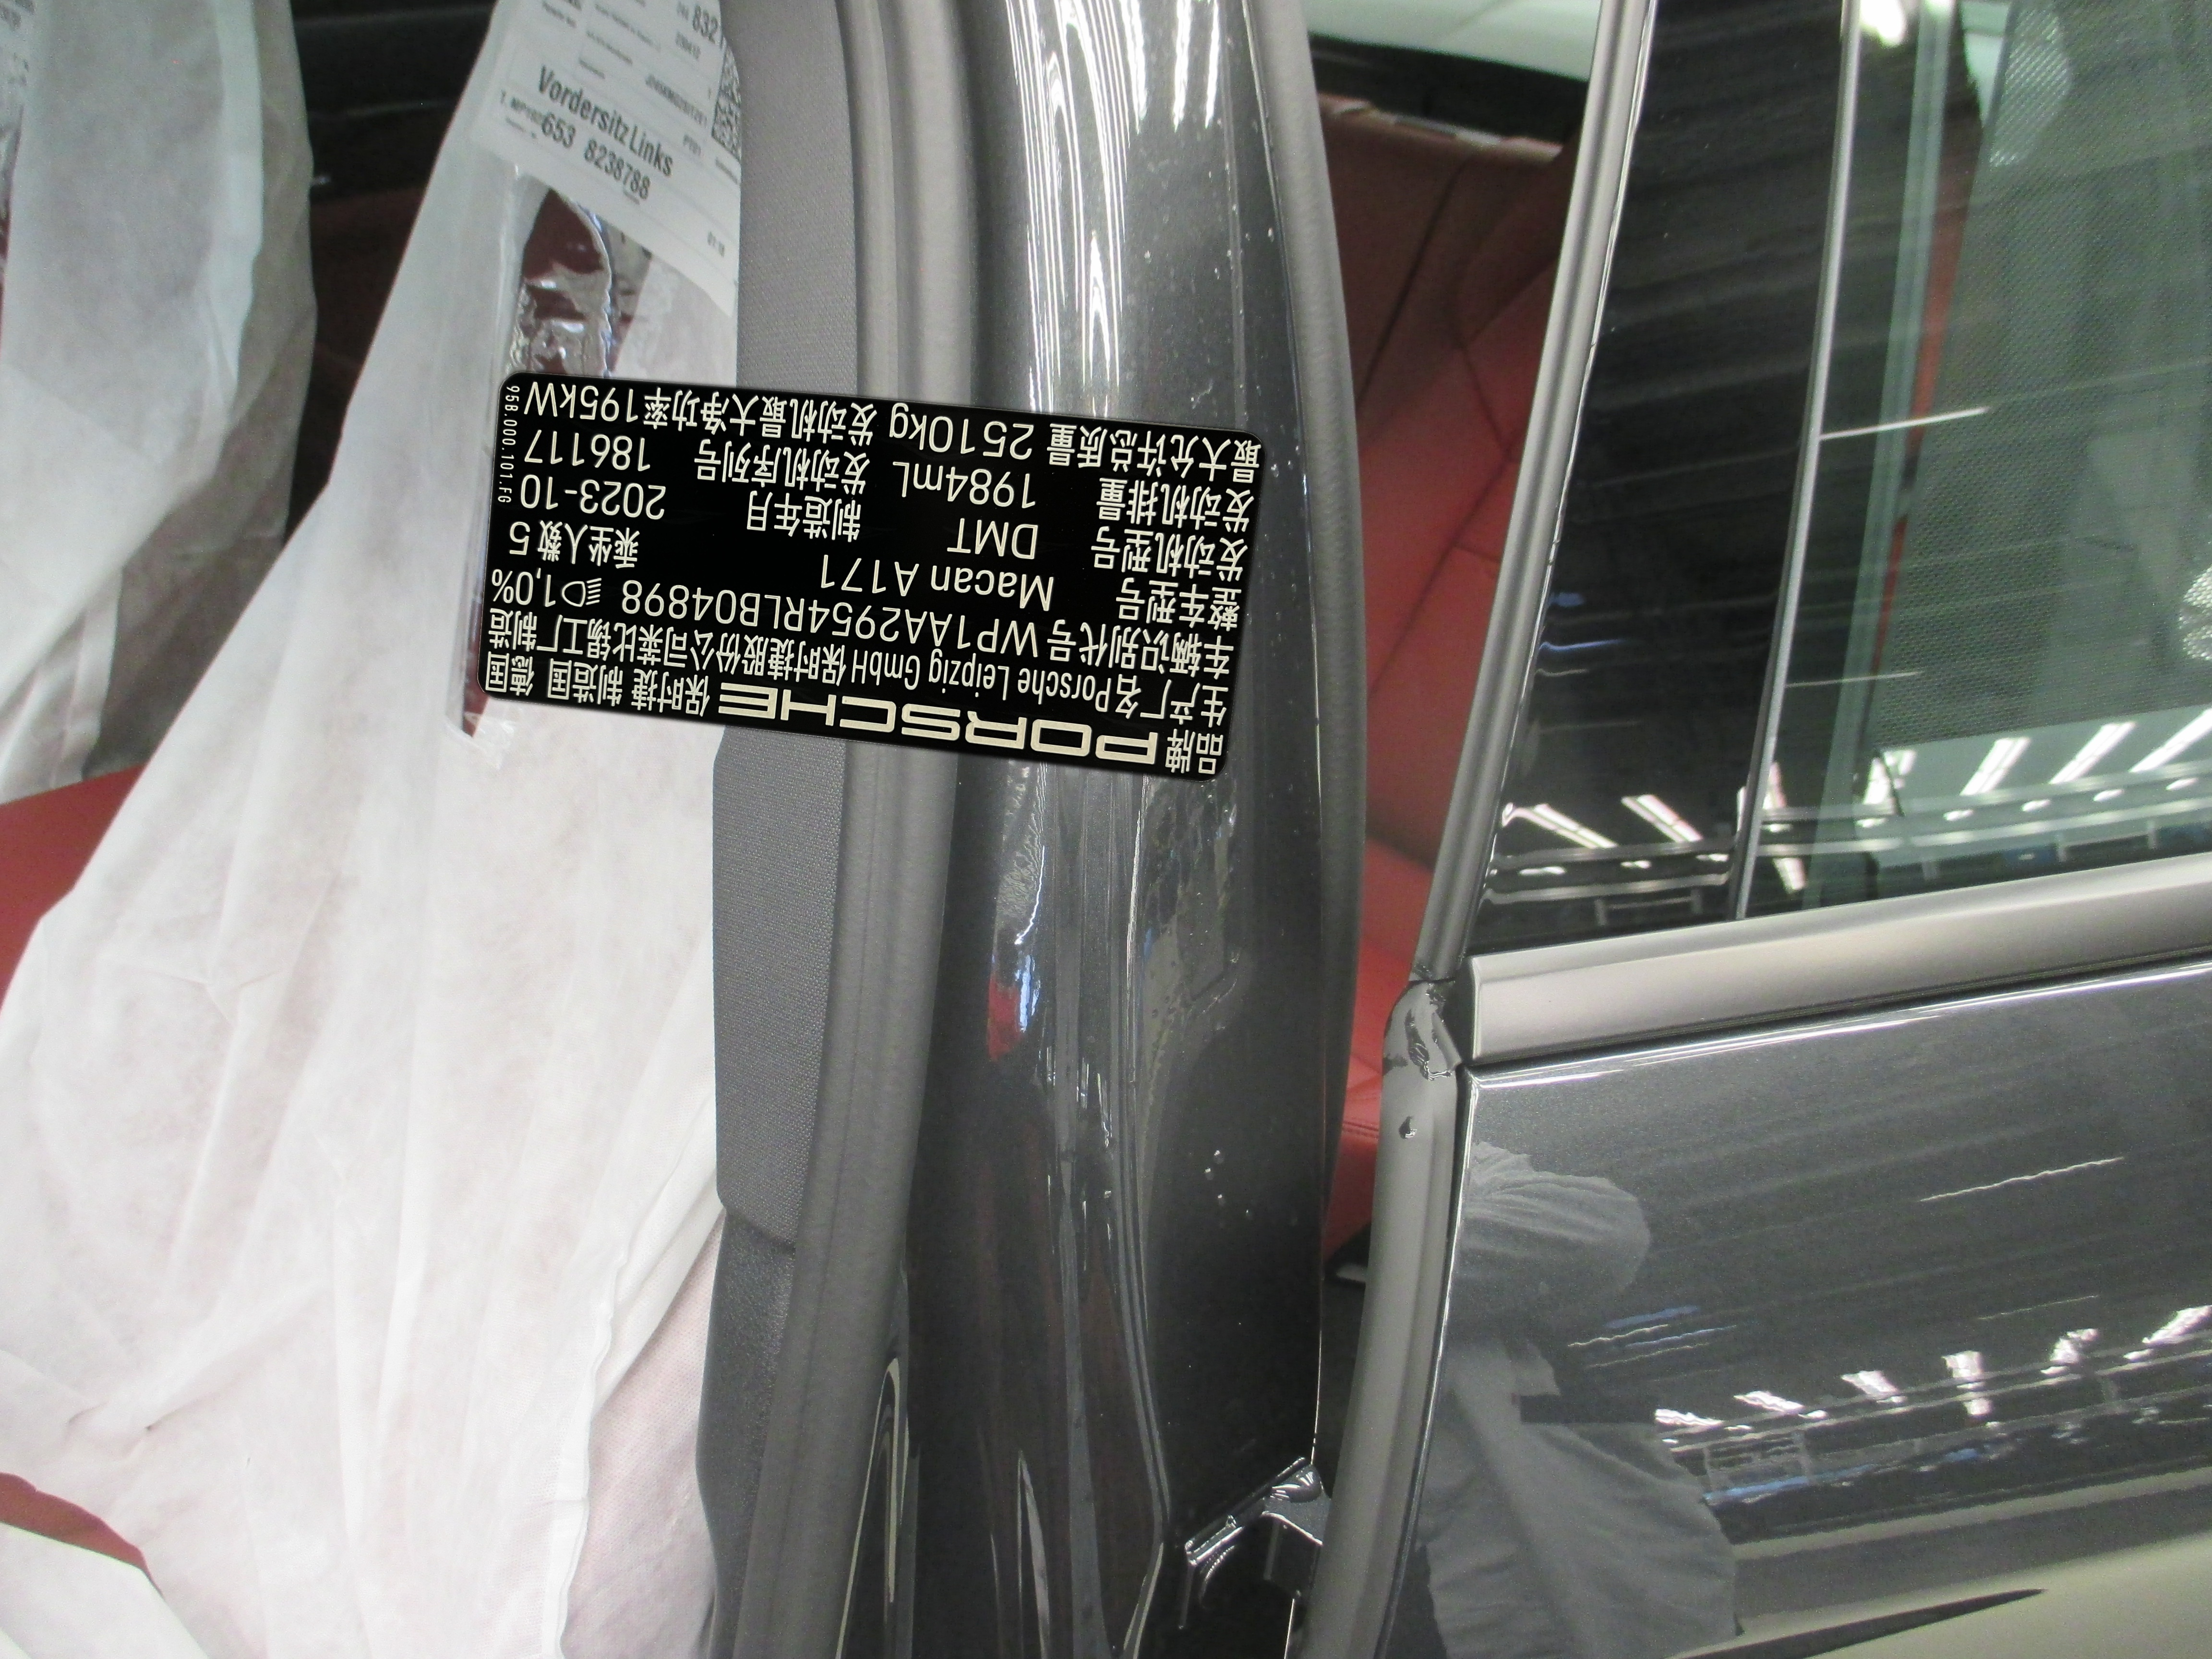Typlabel-China: (477, 371, 1266, 781)
